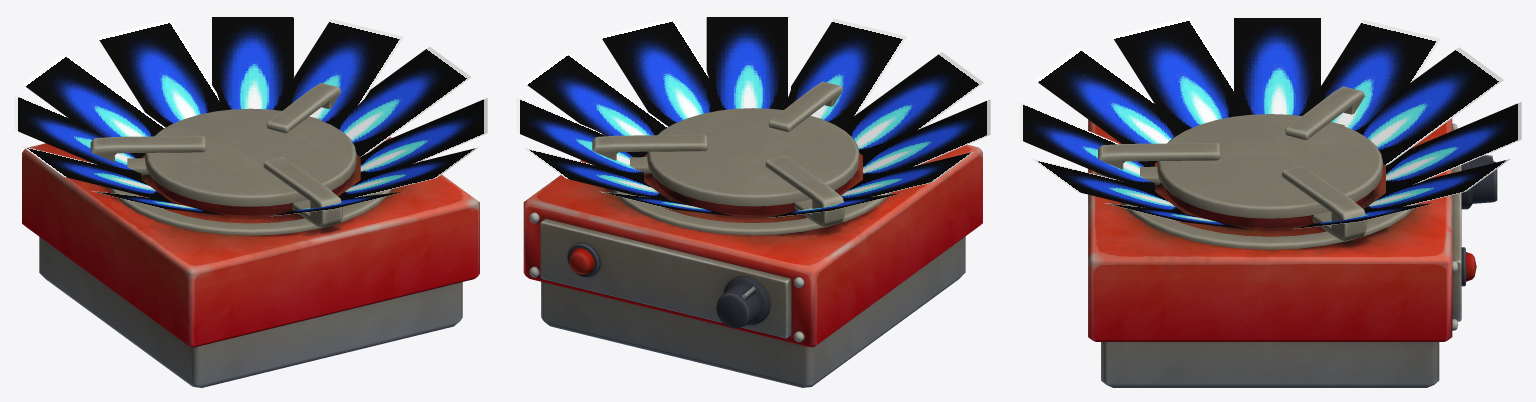
File: m_sk_cooker_01.fbx
3 renders of one model, left to right at view 1: azimuth 30°, elevation 25°; view 2: azimuth 150°, elevation 25°; view 3: azimuth 270°, elevation 25°, orthographic. The views are drawn at different scales.
Visible parts, largest first — view 1: m_sk_cooker_01_0, Plane.008; view 2: m_sk_cooker_01_0, Plane.008; view 3: m_sk_cooker_01_0, Plane.008.
Boxes of the visible parts, x1=… form: m_sk_cooker_01_0: x1=22, y1=83, x2=479, y2=387; Plane.008: x1=14, y1=14, x2=487, y2=216; m_sk_cooker_01_0: x1=523, y1=81, x2=982, y2=387; Plane.008: x1=516, y1=14, x2=990, y2=217; m_sk_cooker_01_0: x1=1088, y1=86, x2=1497, y2=387; Plane.008: x1=1019, y1=14, x2=1521, y2=229.
Size of the model in its own units: 1.68 by 0.7331 by 1.68.
